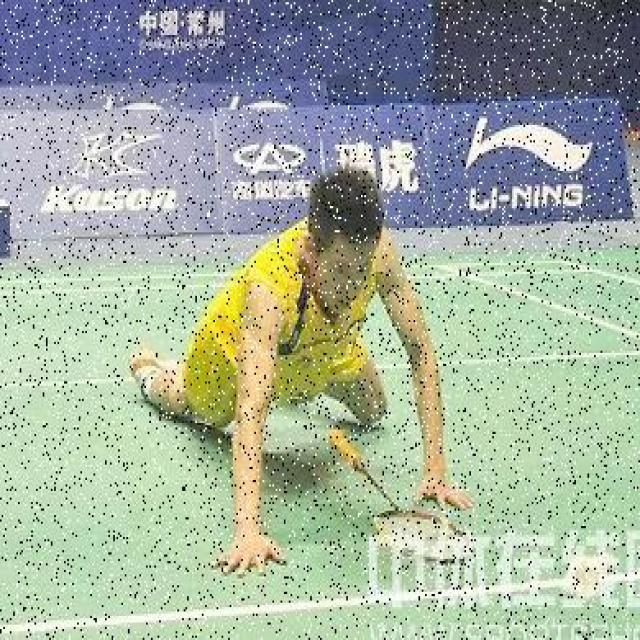fall: (135, 180, 462, 500)
